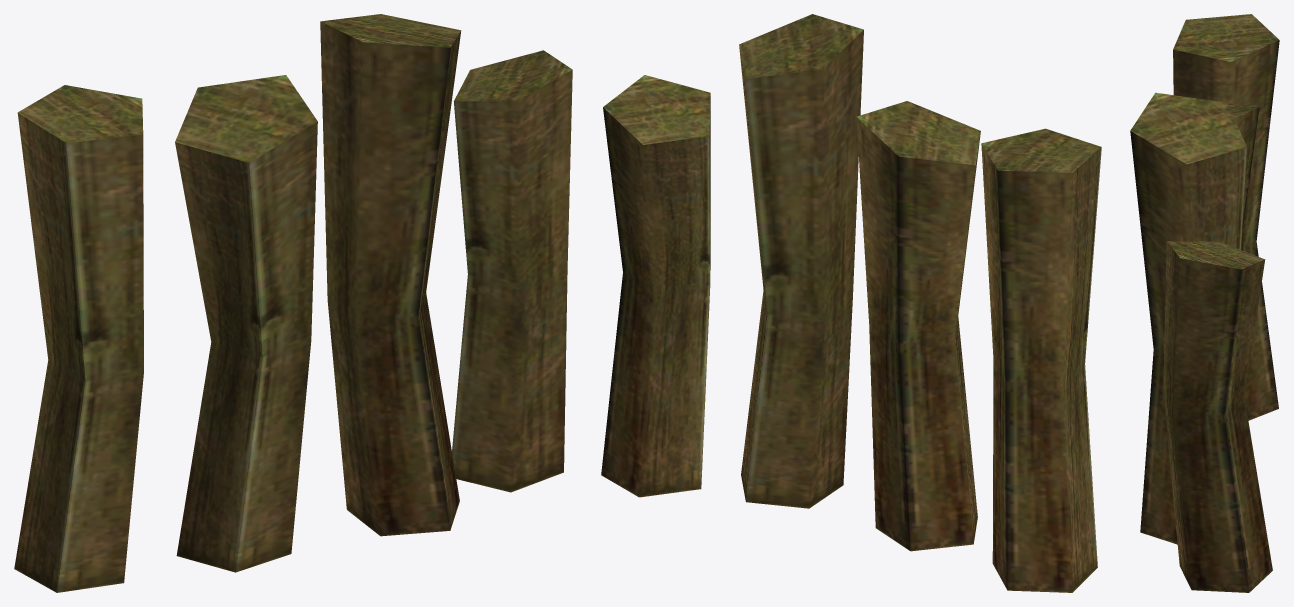
The model's file is S_Build_Village120_A.FBX.
3 renders of one model, left to right at view 1: azimuth 30°, elevation 25°; view 2: azimuth 150°, elevation 25°; view 3: azimuth 270°, elevation 25°, orthographic. The views are drawn at different scales.
Visible parts, largest first — view 1: S_Build_Village120_A; view 2: S_Build_Village120_A; view 3: S_Build_Village120_A.
Part boxes in pixels (<box>): S_Build_Village120_A: <box>14,14,572,592</box>; S_Build_Village120_A: <box>601,14,1101,592</box>; S_Build_Village120_A: <box>1130,14,1279,592</box>.
Size of the model in its own units: 198 by 182 by 60.39.
